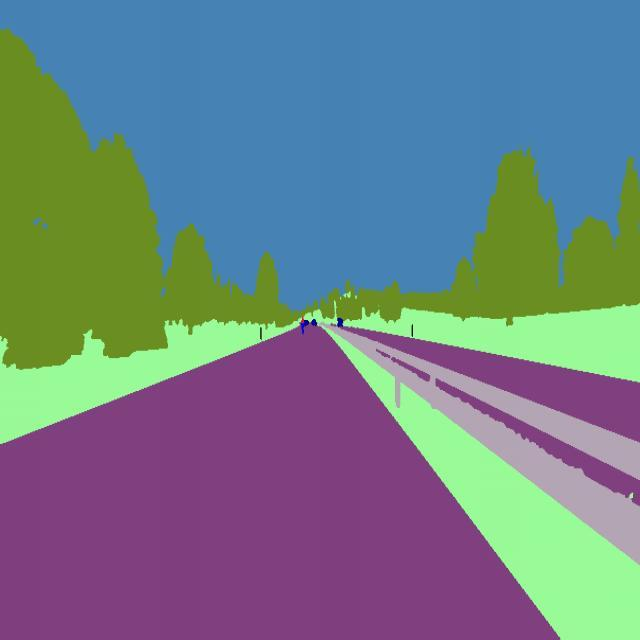safe: (296, 310, 308, 339), (308, 316, 321, 333), (336, 316, 346, 330)
